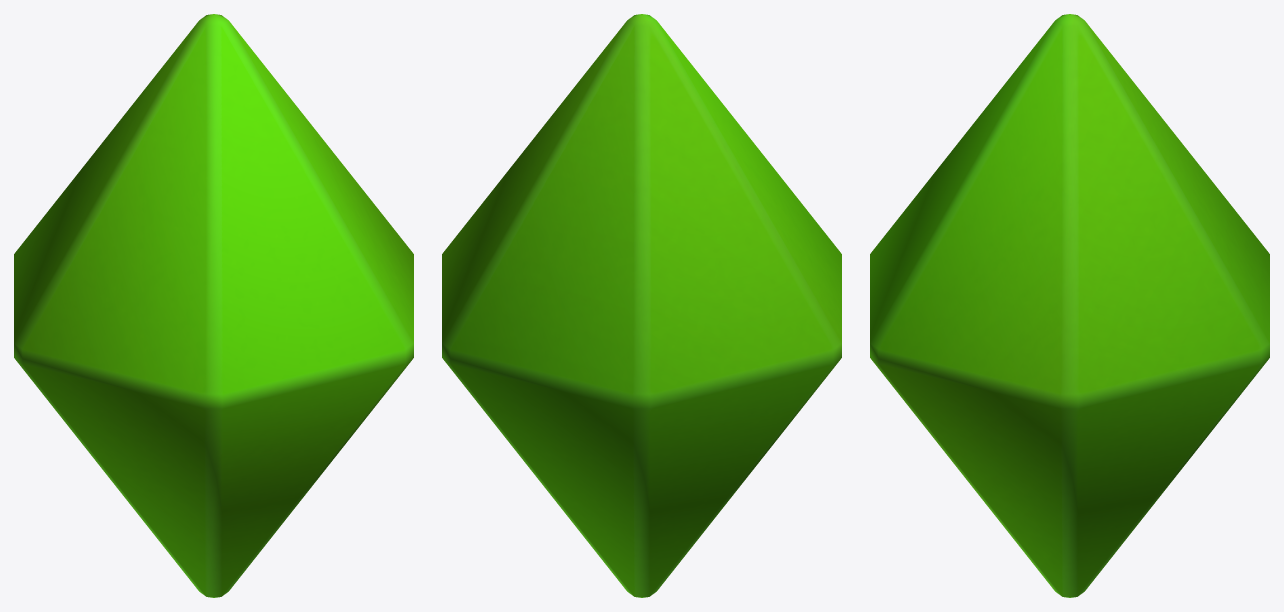
Rendered from Gem01_Green.FBX.
3 views of the same model, side by side, from view 1: azimuth 30°, elevation 25°; view 2: azimuth 150°, elevation 25°; view 3: azimuth 270°, elevation 25° (orthographic).
Visible parts, largest first — view 1: Gem01_Green; view 2: Gem01_Green; view 3: Gem01_Green.
Part boxes in pixels (<box>): Gem01_Green: <box>14,14,413,597</box>; Gem01_Green: <box>442,14,841,597</box>; Gem01_Green: <box>870,14,1269,597</box>.
Bounding box in the file's own units: 51.18 × 73.01 × 45.29.
1 material, 1 textured.
